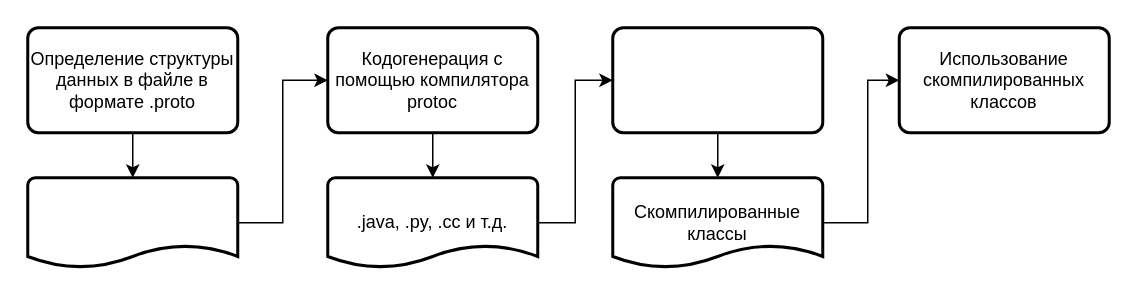
This 1136x294 diagram has some shape labels left out. The shapes that lost their labels are listed below. From the top down, each one's centre as x and y in pixels, then its label:
At point (717, 80): "Компиляция сгенерированных классов вместе с кодом проекта".
At point (132, 222): "Файл .proto".
